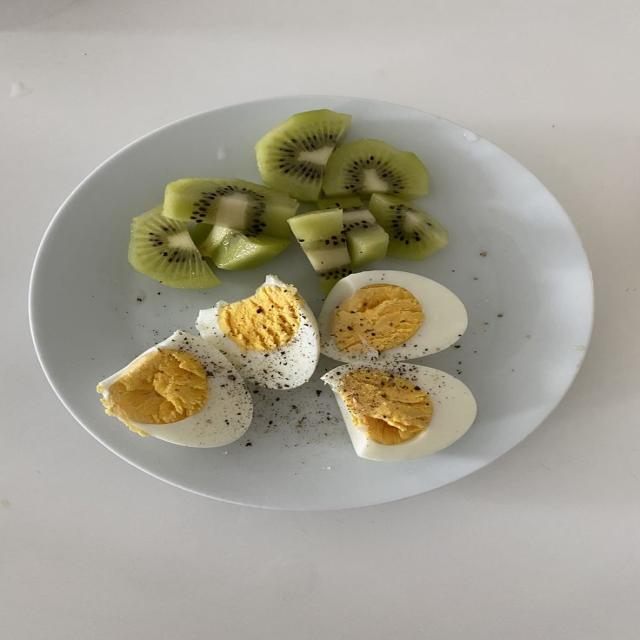eggs: (113, 286, 472, 476)
